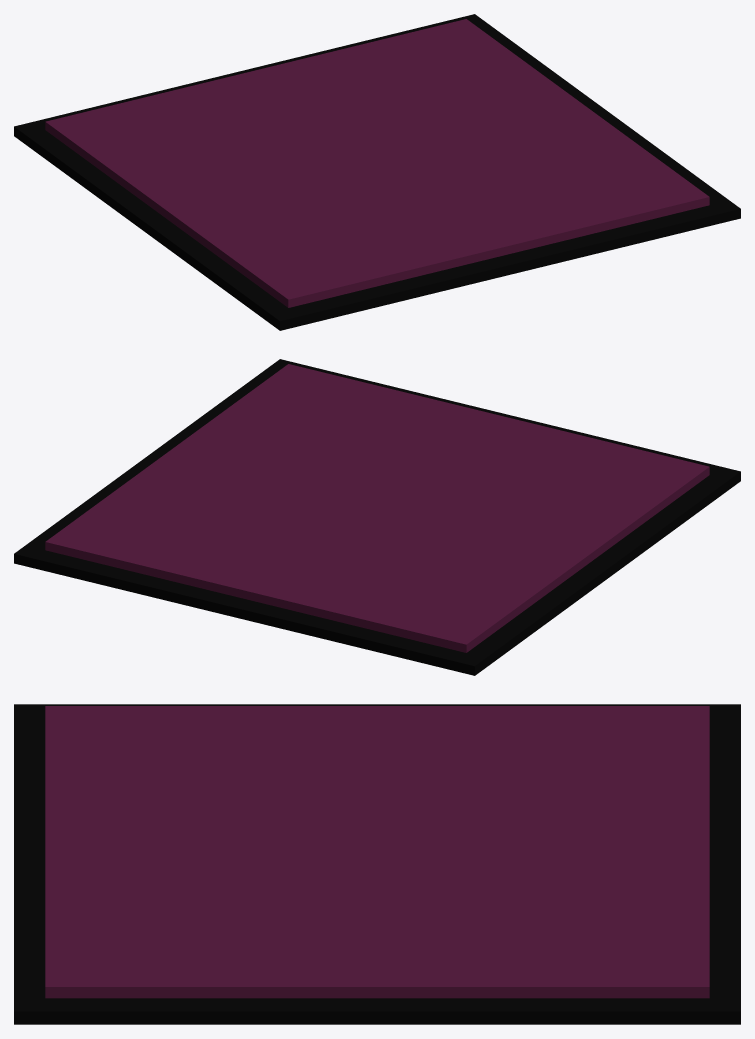
File: staticMesh_prop_PressurePlate_UV.fbx
The picture shows the model from 3 angles, top to bottom: view 1: azimuth 30°, elevation 25°; view 2: azimuth 150°, elevation 25°; view 3: azimuth 270°, elevation 25°; orthographic projection. The views are drawn at different scales.
Parts seen in each view (by area): view 1: pCube1; view 2: pCube1; view 3: pCube1.
Part boxes in pixels (bbox=[...]): pCube1: bbox=[14, 14, 740, 330]; pCube1: bbox=[14, 359, 740, 675]; pCube1: bbox=[14, 704, 740, 1024].
Bounding box in the file's own units: 216 × 8.05 × 216.
